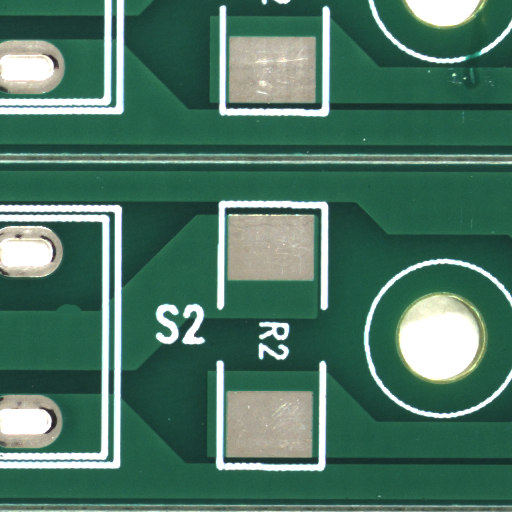Spur: (68, 307, 96, 316)
